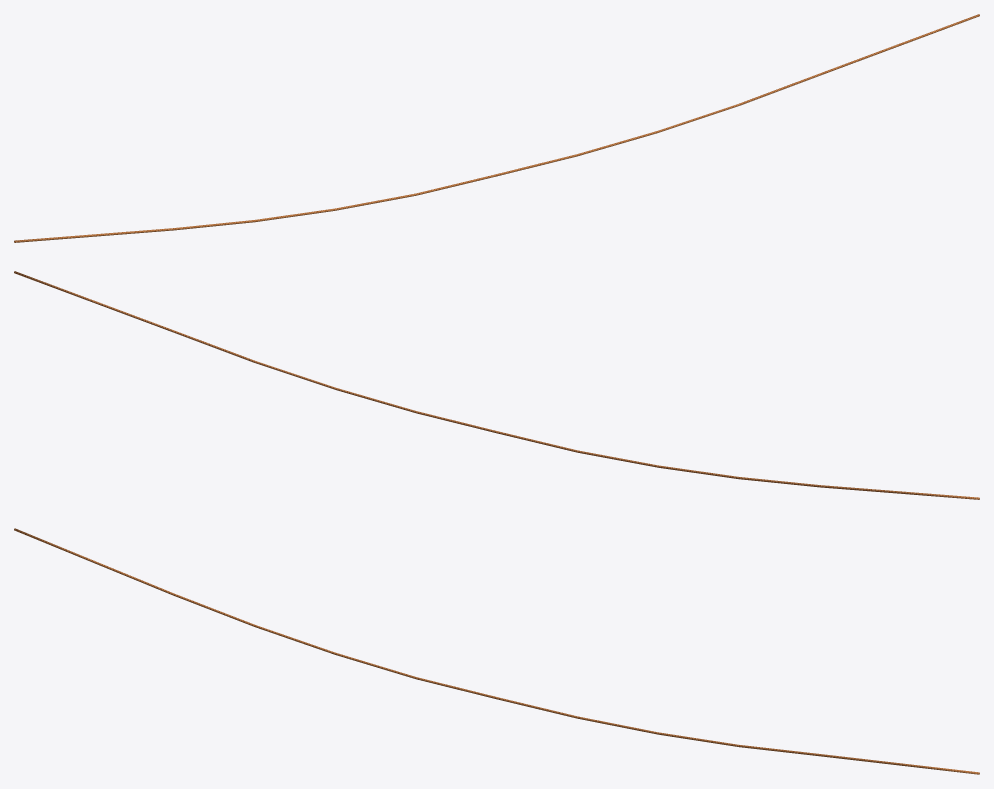
File: rope.fbx
3 renders of one model, top to bottom at view 1: azimuth 30°, elevation 25°; view 2: azimuth 150°, elevation 25°; view 3: azimuth 330°, elevation 25°, orthographic.
Visible parts, largest first — view 1: Cylinder08; view 2: Cylinder08; view 3: Cylinder08.
Part boxes in pixels (box(x1,y1,x2,y2)): Cylinder08: box(14, 14, 979, 242); Cylinder08: box(14, 271, 979, 499); Cylinder08: box(14, 528, 979, 774).
Size of the model in its own units: 27.33 by 1.45 by 0.0554.
